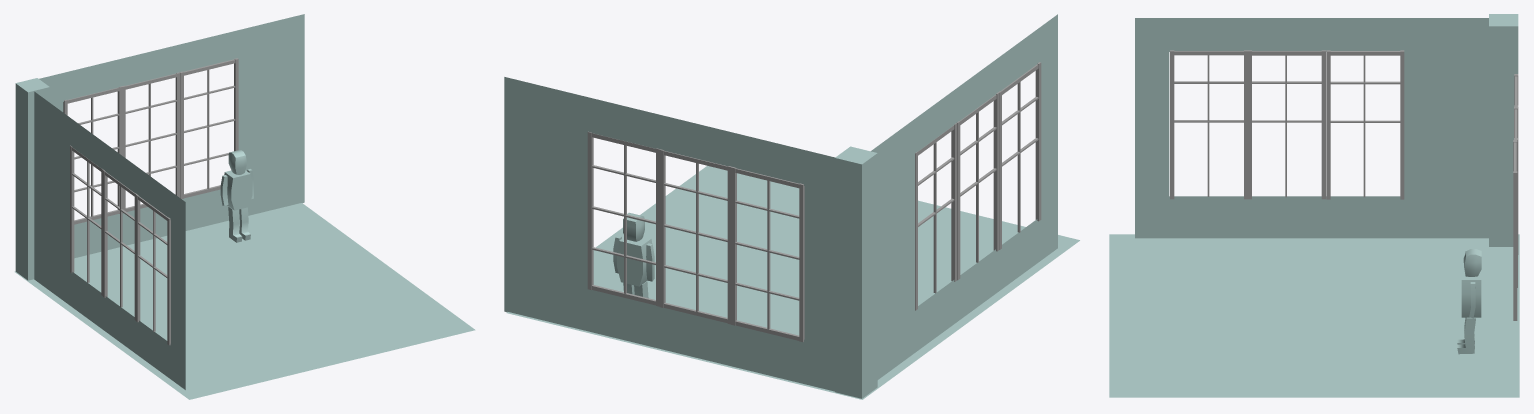
The picture shows the model from 3 angles, left to right: view 1: azimuth 30°, elevation 25°; view 2: azimuth 150°, elevation 25°; view 3: azimuth 270°, elevation 25°; orthographic projection. The views are drawn at different scales.
Parts seen in each view (by area): view 1: pPlane1, pPlane2, pasted__pPlane2, pCube2, pasted__pCube1 (×2), pCube4, pasted__pasted__pCube2, pasted__pasted__pCube1, pasted__pasted__pasted__pCube2, pasted__pasted__pasted__pasted__pCube3, pasted__pasted__pCube4, pasted__pasted__pasted__pCube3; view 2: pPlane2, pPlane1, pasted__pPlane2, pCube2, pasted__pCube1 (×2), pCube4, pasted__pasted__pCube2, pasted__pasted__pasted__pCube3, pasted__pasted__pCube8, pasted__pasted__pasted__pCube4, pCube1, pasted__pCube8 (+5 smaller); view 3: pPlane1, pasted__pPlane2, pCube2, pCube4, pasted__pasted__pasted__pCube3, pasted__pasted__pasted__pasted__pCube3, pasted__pasted__pasted__pCube4, pasted__pCube1, pasted__pasted__pasted__pCube2, pasted__pasted__pCube1, pasted__pasted__pCube8, pCube3 (+3 smaller).
Part boxes in pixels (x1=…): pPlane1: x1=14, y1=203, x2=475, y2=399; pPlane2: x1=39, y1=14, x2=304, y2=258; pasted__pPlane2: x1=34, y1=91, x2=185, y2=389; pCube2: x1=15, y1=78, x2=49, y2=280; pasted__pCube1 (×2): x1=117, y1=86, x2=170, y2=345; pCube4: x1=224, y1=170, x2=252, y2=210; pasted__pasted__pCube2: x1=175, y1=72, x2=180, y2=197; pasted__pasted__pCube1: x1=136, y1=194, x2=140, y2=322; pasted__pasted__pasted__pCube2: x1=103, y1=170, x2=107, y2=297; pasted__pasted__pasted__pasted__pCube3: x1=70, y1=145, x2=74, y2=273; pasted__pasted__pCube4: x1=179, y1=71, x2=183, y2=198; pasted__pasted__pasted__pCube3: x1=234, y1=58, x2=238, y2=151; pPlane2: x1=504, y1=77, x2=834, y2=391; pPlane1: x1=506, y1=165, x2=1079, y2=399; pasted__pPlane2: x1=871, y1=14, x2=1057, y2=379; pCube2: x1=835, y1=146, x2=877, y2=398; pasted__pCube1 (×2): x1=731, y1=62, x2=1041, y2=325; pCube4: x1=617, y1=236, x2=652, y2=286; pasted__pasted__pCube2: x1=659, y1=149, x2=665, y2=307; pasted__pasted__pasted__pCube3: x1=587, y1=131, x2=593, y2=289; pasted__pasted__pCube8: x1=993, y1=92, x2=999, y2=251; pasted__pasted__pasted__pCube4: x1=951, y1=123, x2=957, y2=281; pCube1: x1=799, y1=183, x2=804, y2=342; pasted__pCube8: x1=727, y1=166, x2=731, y2=324; pPlane1: x1=1109, y1=234, x2=1519, y2=397; pasted__pPlane2: x1=1135, y1=18, x2=1488, y2=238; pCube2: x1=1489, y1=14, x2=1518, y2=246; pCube4: x1=1461, y1=270, x2=1481, y2=317; pasted__pasted__pasted__pCube3: x1=1513, y1=171, x2=1517, y2=320; pasted__pasted__pasted__pasted__pCube3: x1=1400, y1=50, x2=1404, y2=199; pasted__pasted__pasted__pCube4: x1=1326, y1=50, x2=1330, y2=199; pasted__pCube1: x1=1170, y1=50, x2=1174, y2=199; pasted__pasted__pasted__pCube2: x1=1321, y1=50, x2=1325, y2=199; pasted__pasted__pCube1: x1=1244, y1=50, x2=1248, y2=199; pasted__pasted__pCube8: x1=1248, y1=50, x2=1251, y2=199; pCube3: x1=1463, y1=249, x2=1481, y2=276.
Size of the model in its own units: 1076 by 673 by 1130.
